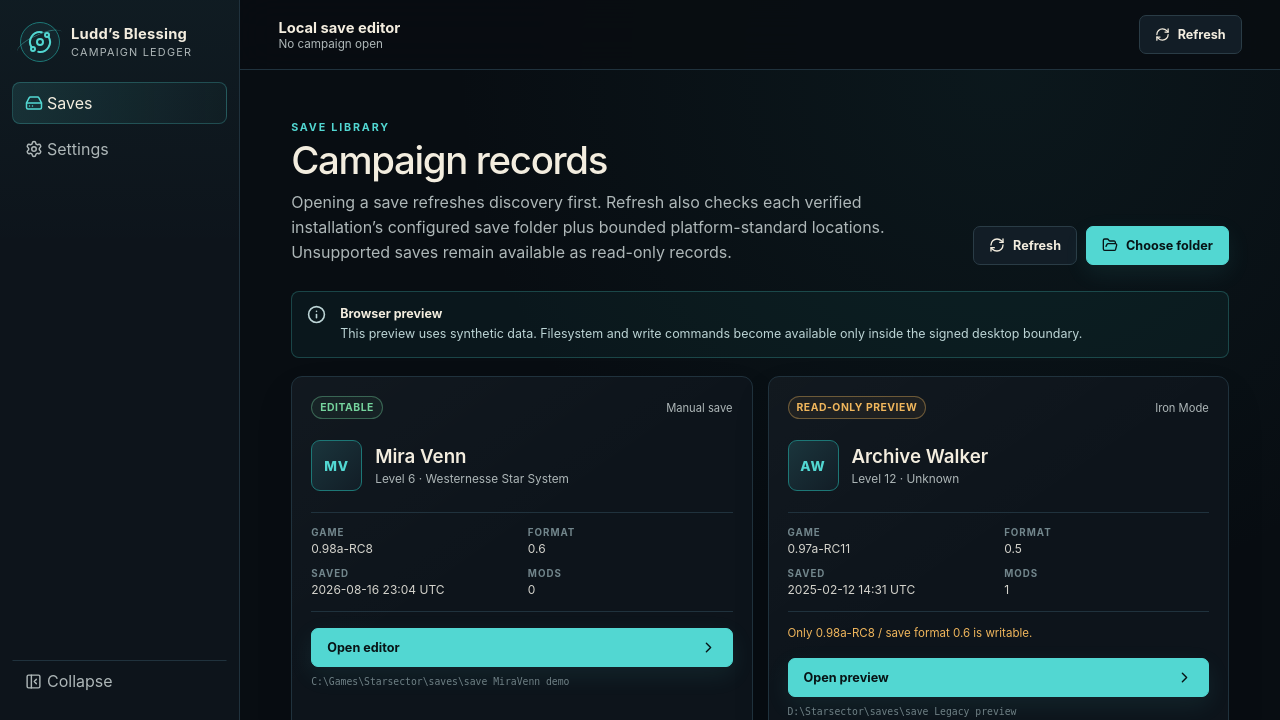
Test: Ludd’s Blessing app shell › keeps save-library navigation separate from the open editor
Check: the heading "Mira Venn" is shown, box [375,445,466,468]
Check: the button "Saves" is shown, box [12,82,227,124]
Click the button "Open editor".
click(363, 648)  # box [311,628,732,667]
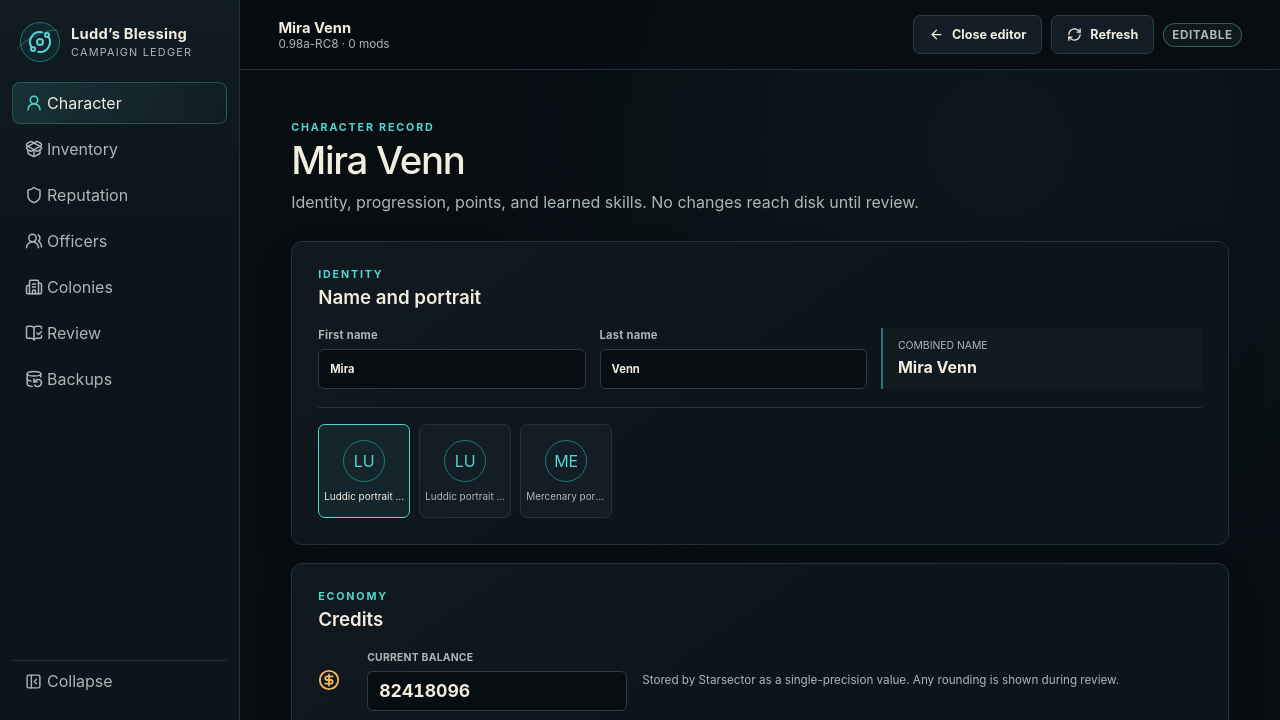
Check: the heading "Name and portrait" is shown, box [318,286,481,309]
Check: the button "Character" is shown, box [12,82,227,124]
Check: the button "Saves" is gone
Click the button "Close editor".
click(978, 34)  # box [913,15,1042,54]
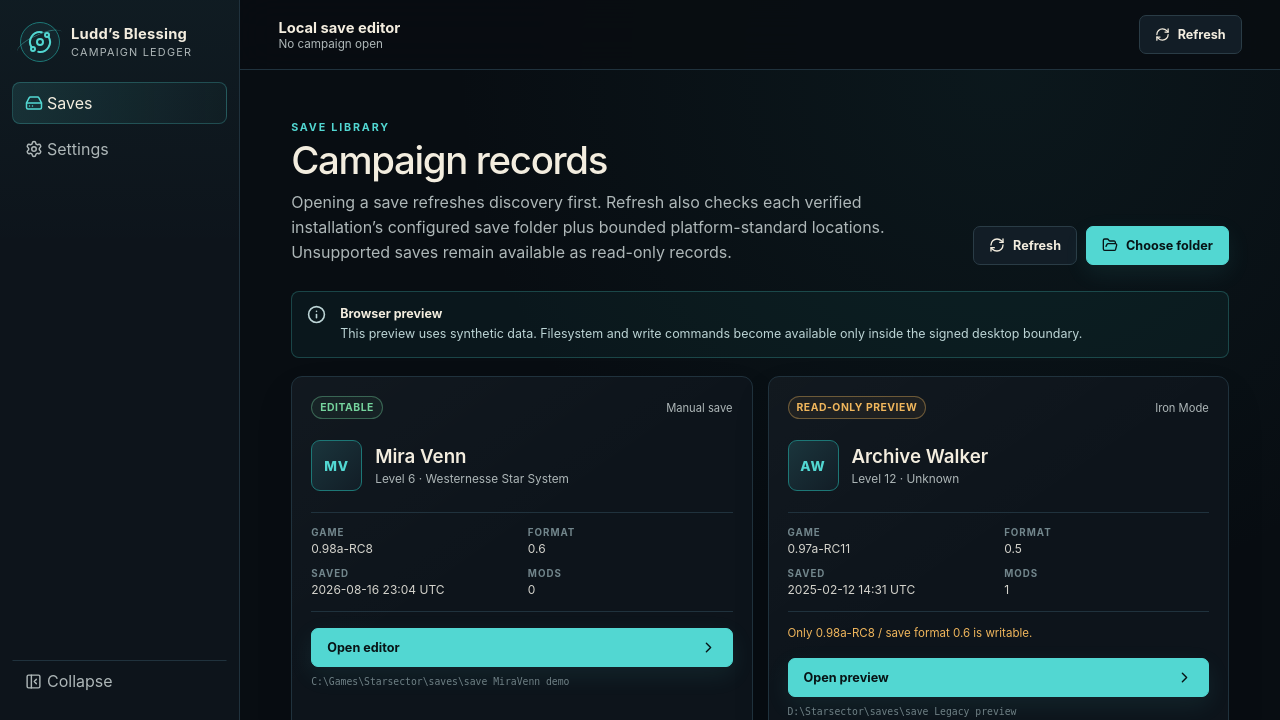
Check: the heading "Campaign records" is shown, box [291,137,607,183]
Check: the navigation bar named "Save library navigation" is shown, box [12,82,227,170]
